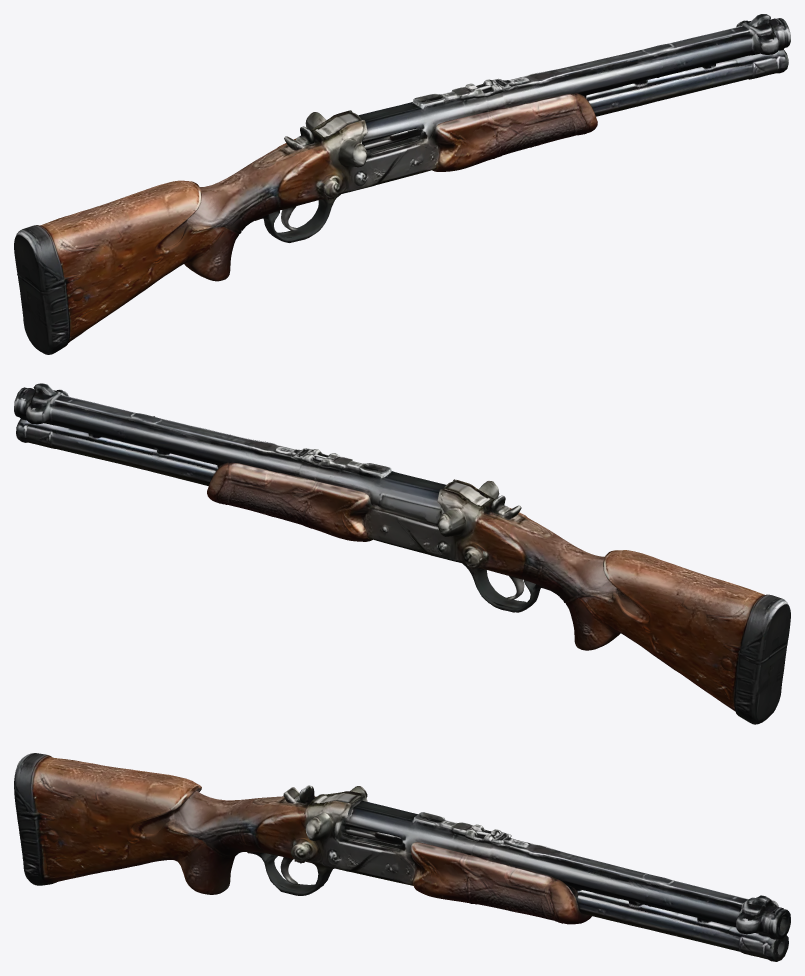
The model's file is rn_sawed.glb.
The picture shows the model from 3 angles, top to bottom: view 1: azimuth 30°, elevation 25°; view 2: azimuth 150°, elevation 25°; view 3: azimuth 330°, elevation 25°; orthographic projection.
Visible parts, largest first — view 1: tripo_node_e049ed02-b949-47de-bd65-e53e7a9b014d; view 2: tripo_node_e049ed02-b949-47de-bd65-e53e7a9b014d; view 3: tripo_node_e049ed02-b949-47de-bd65-e53e7a9b014d.
Part boxes in pixels (left/top/right/bottom): tripo_node_e049ed02-b949-47de-bd65-e53e7a9b014d: left=14, top=14, right=790, bottom=354; tripo_node_e049ed02-b949-47de-bd65-e53e7a9b014d: left=14, top=383, right=790, bottom=724; tripo_node_e049ed02-b949-47de-bd65-e53e7a9b014d: left=14, top=753, right=790, bottom=961.
Bounding box in the file's own units: 0.9805 × 0.1979 × 0.1187.
Materials: 1 (1 with a texture image).
